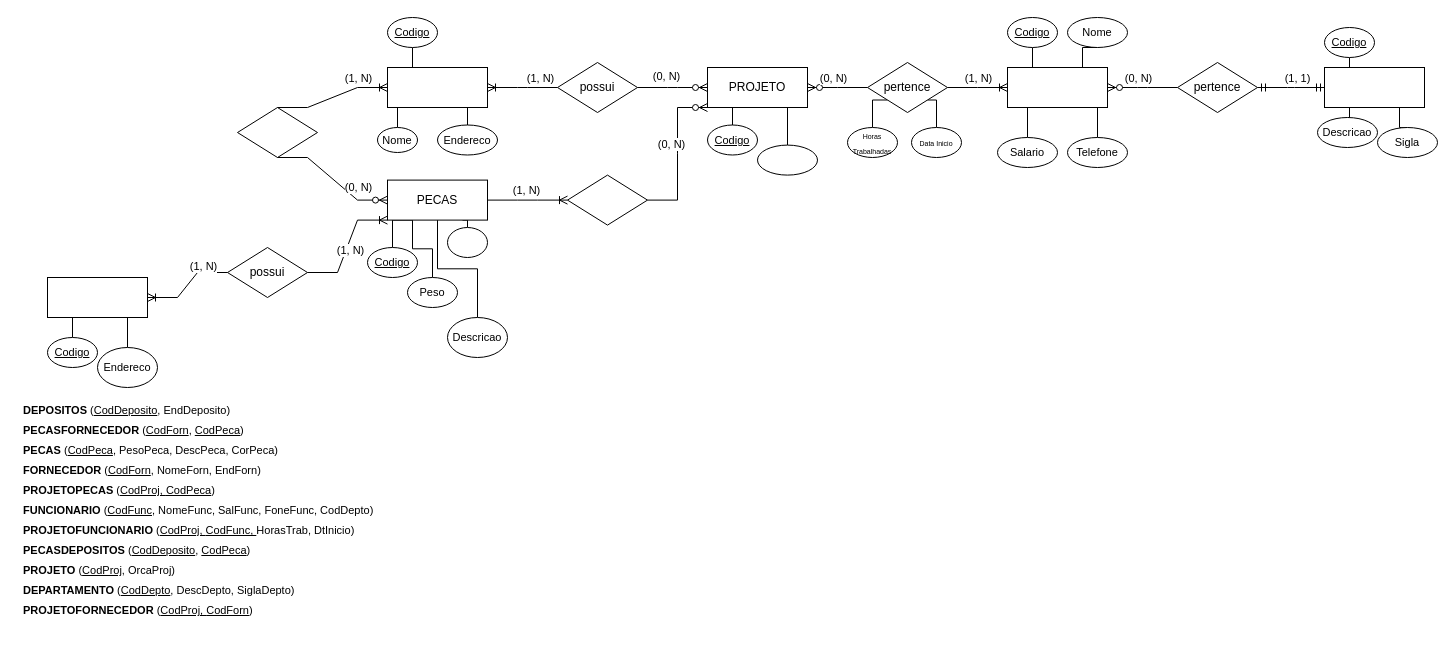
The diagram is 1455 pixels wide and 648 high, and some of its shapes have lost their labels. The shapes that lost their labels are listed below. From the top down, each one's centre as x and y in pixels, then its label:
At point (437, 87): "FORNECEDOR".
At point (1057, 87): "FUNCIONARIO".
At point (1374, 87): "DEPARTAMENTO".
At point (277, 132): "fornece".
At point (787, 159): "Orcamento".
At point (607, 199): "utiliza".
At point (467, 242): "Cor".
At point (97, 297): "DEPOSITOS".
